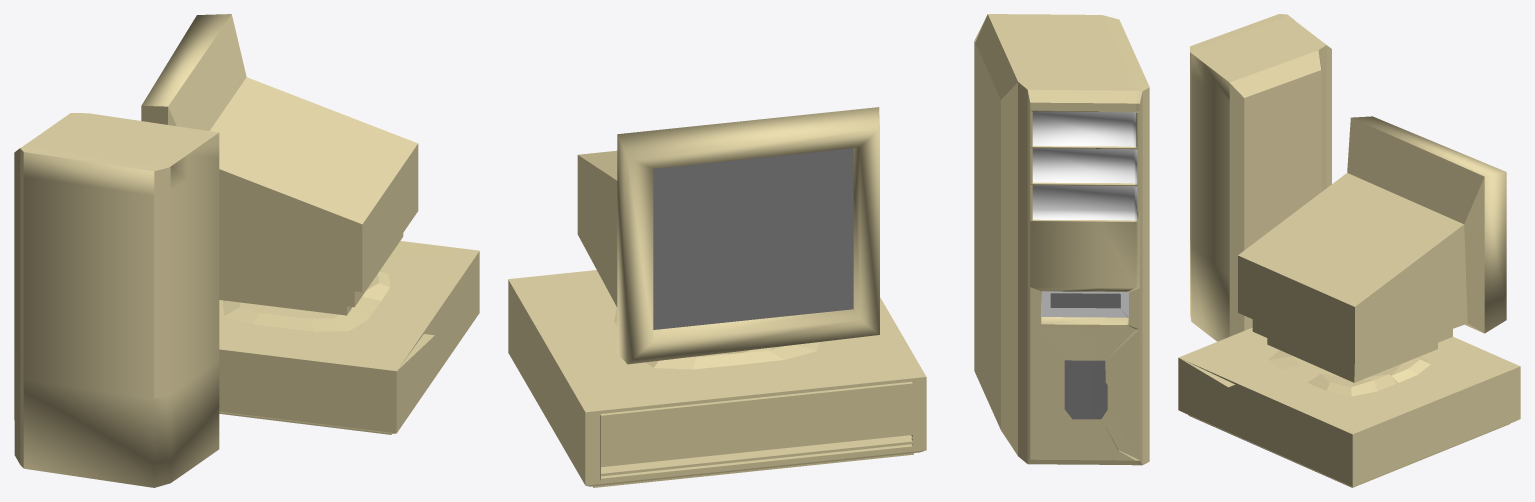
File: computer office + pc normals 1.fbx
3 renders of one model, left to right at view 1: azimuth 30°, elevation 25°; view 2: azimuth 150°, elevation 25°; view 3: azimuth 270°, elevation 25°, orthographic. The views are drawn at different scales.
Parts seen in each view (by area): view 1: Cube.065, Cube.067; view 2: Cube.065, Cube.067; view 3: Cube.065, Cube.067.
Boxes of the visible parts, x1,y1,x2,y2 form: Cube.065: (141,14,479,434); Cube.067: (14,113,219,487); Cube.065: (508,107,926,487); Cube.067: (974,14,1149,465); Cube.065: (1178,116,1520,487); Cube.067: (1190,14,1331,341).
Size of the model in its own units: 254 by 156 by 178.
